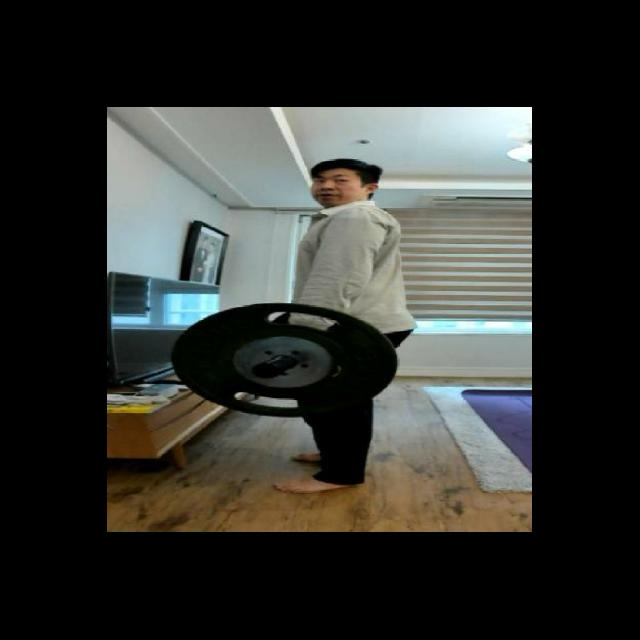barbell: (165, 300, 411, 421)
